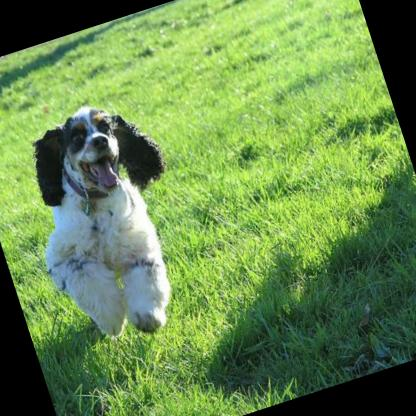cocker_spaniel: (0, 80, 221, 366)
